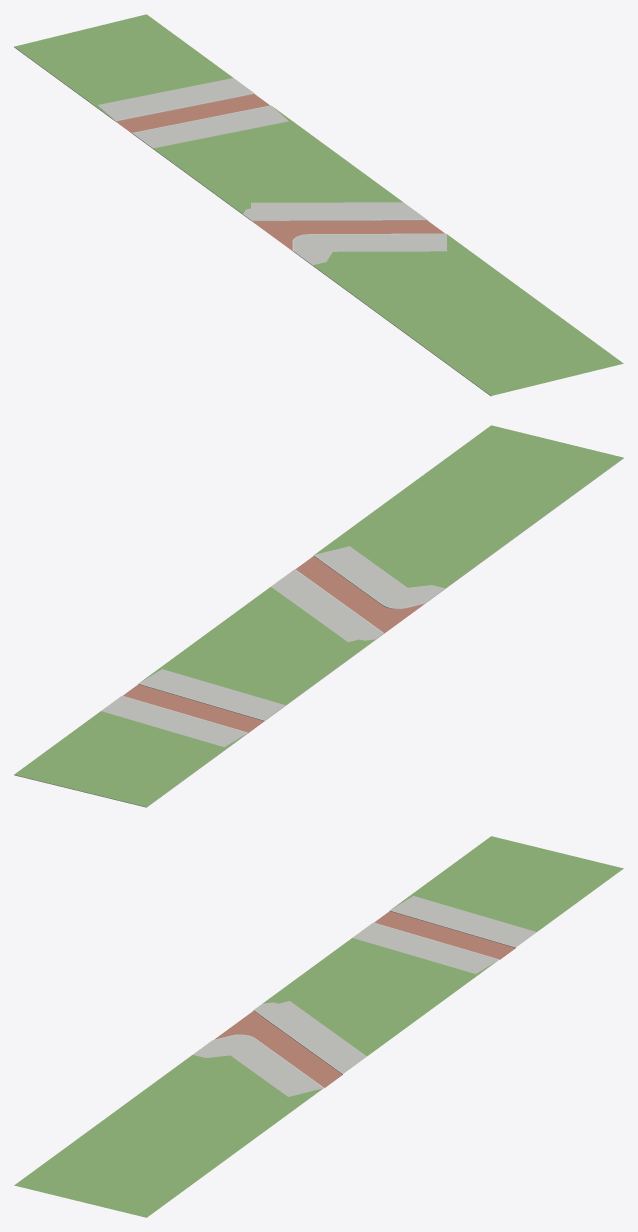
File: ground_3_5.glb
The picture shows the model from 3 angles, top to bottom: view 1: azimuth 30°, elevation 25°; view 2: azimuth 150°, elevation 25°; view 3: azimuth 330°, elevation 25°; orthographic projection.
Visible parts, largest first — view 1: ground_3_5; view 2: ground_3_5; view 3: ground_3_5.
Boxes of the visible parts, left/top/right/bottom form: ground_3_5: left=14, top=14, right=623, bottom=396; ground_3_5: left=14, top=425, right=623, bottom=807; ground_3_5: left=14, top=836, right=623, bottom=1217.
Bounding box in the file's own units: 26 × 0.12 × 162.
